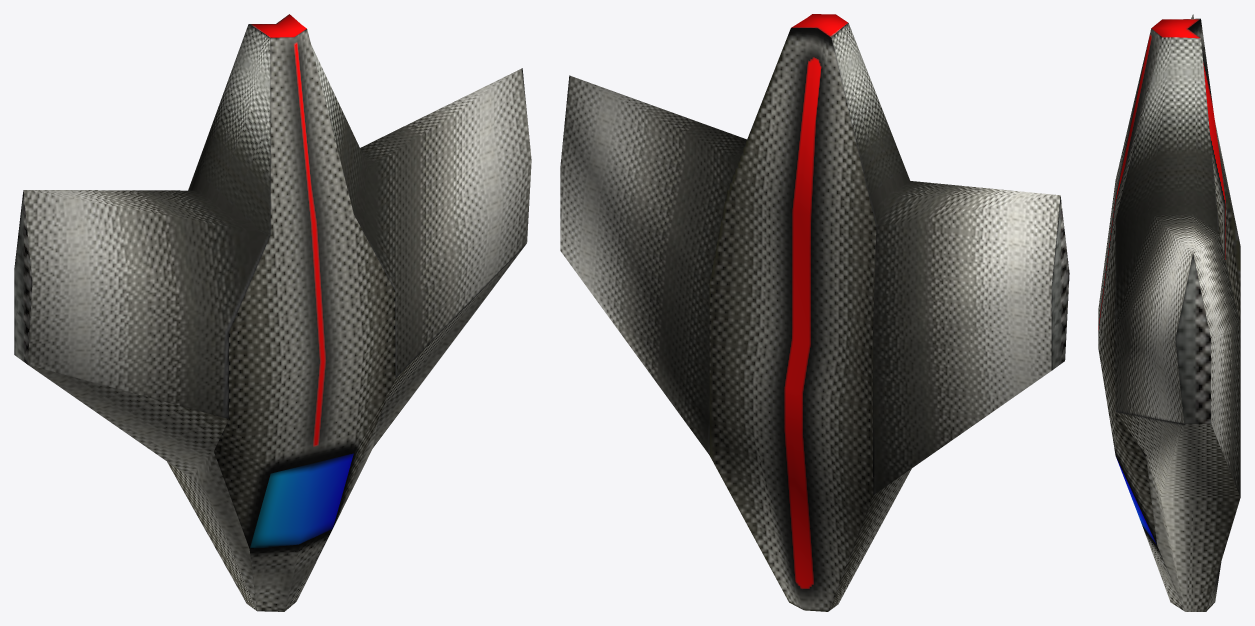
Rendered from hunter.fbx.
3 renders of one model, left to right at view 1: azimuth 30°, elevation 25°; view 2: azimuth 150°, elevation 25°; view 3: azimuth 270°, elevation 25°, orthographic.
Parts seen in each view (by area): view 1: spaceship; view 2: spaceship; view 3: spaceship.
Part boxes in pixels (<box>): spaceship: <box>14,14,531,611</box>; spaceship: <box>560,14,1069,611</box>; spaceship: <box>1098,14,1240,611</box>.
Bounding box in the file's own units: 6 × 6.68 × 1.5.
1 material, 1 textured.
